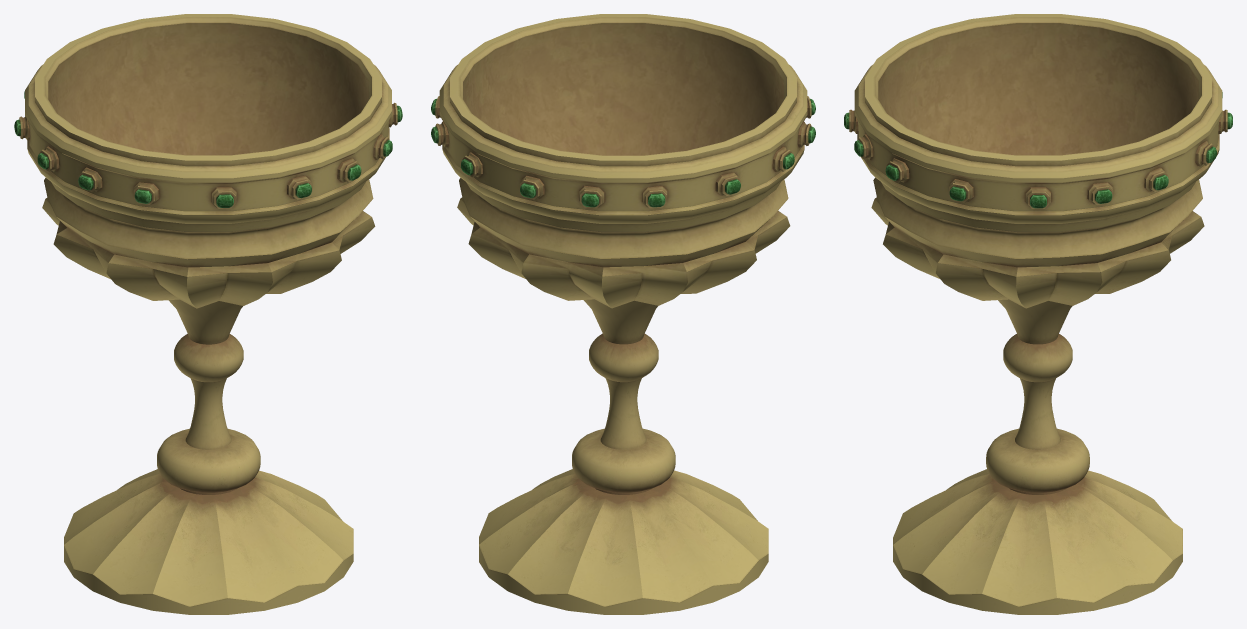
Rendered from kielich_gonca.glb.
3 renders of one model, left to right at view 1: azimuth 30°, elevation 25°; view 2: azimuth 150°, elevation 25°; view 3: azimuth 270°, elevation 25°, orthographic.
Visible parts, largest first — view 1: Chalice; view 2: Chalice; view 3: Chalice.
Part boxes in pixels (left/top/right/bottom): Chalice: left=14, top=14, right=402, bottom=614; Chalice: left=431, top=14, right=815, bottom=614; Chalice: left=844, top=14, right=1232, bottom=614.
Size of the model in its own units: 0.2639 by 0.35 by 0.2639.
1 material, 1 textured.
